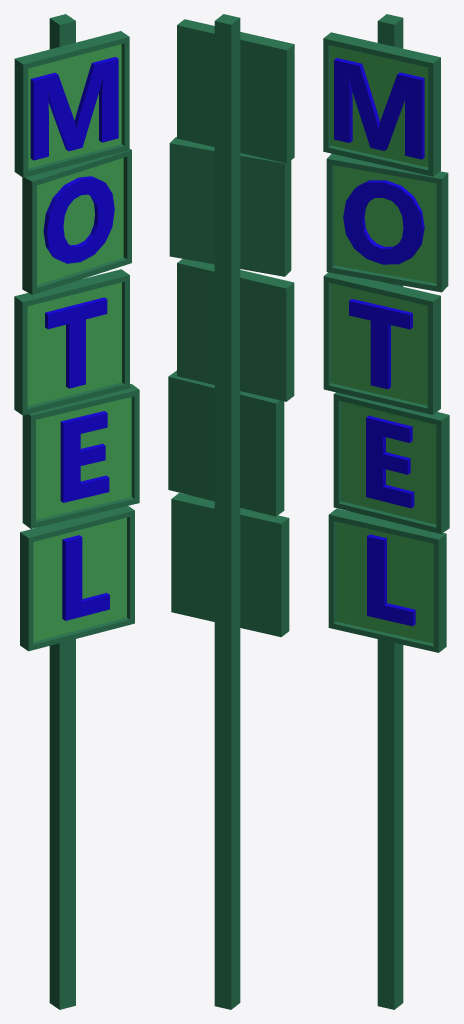
Rendered from Motel_Sign_02.gltf.
3 views of the same model, side by side, from view 1: azimuth 30°, elevation 25°; view 2: azimuth 150°, elevation 25°; view 3: azimuth 330°, elevation 25° (orthographic).
Parts seen in each view (by area): view 1: Motel_Sign_02; view 2: Motel_Sign_02; view 3: Motel_Sign_02.
Part boxes in pixels (x1=…): Motel_Sign_02: x1=14, y1=14, x2=139, y2=1009; Motel_Sign_02: x1=168, y1=14, x2=294, y2=1009; Motel_Sign_02: x1=323, y1=14, x2=449, y2=1009.
Bounding box in the file's own units: 0.6226 × 4.98 × 0.1983.
